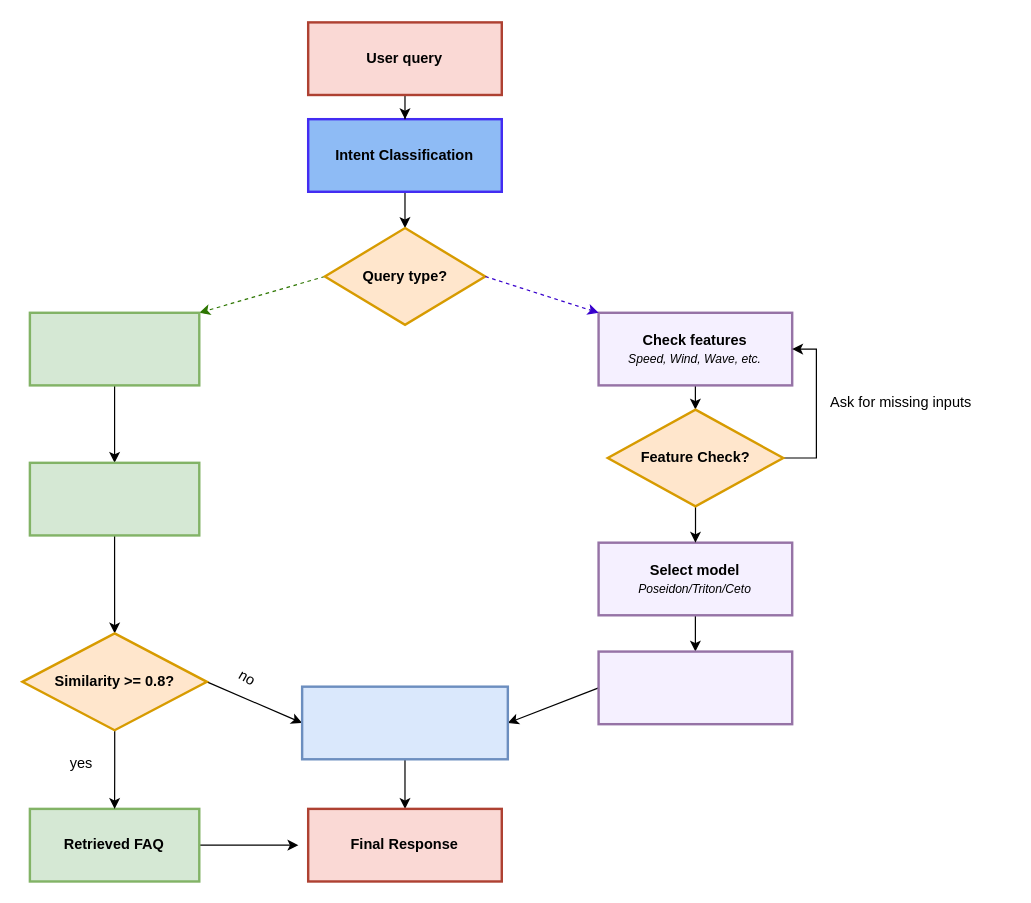
The diagram is 1031 pixels wide and 903 high, and some of its shapes have lost their labels. The centre of each missing label's shape, as x and y in pixels:
"Embedding querry Nomic Embed-text 1.5 -> Vector 768 dim" belongs at point (114, 348).
"LLM module Meta Llama 3" belongs at point (404, 722).
"Semantic search Supabase vector DB Cosine similarity" belongs at point (114, 498).
"Stacked Ensemble XGboost + LightGBM+..." belongs at point (695, 687).
